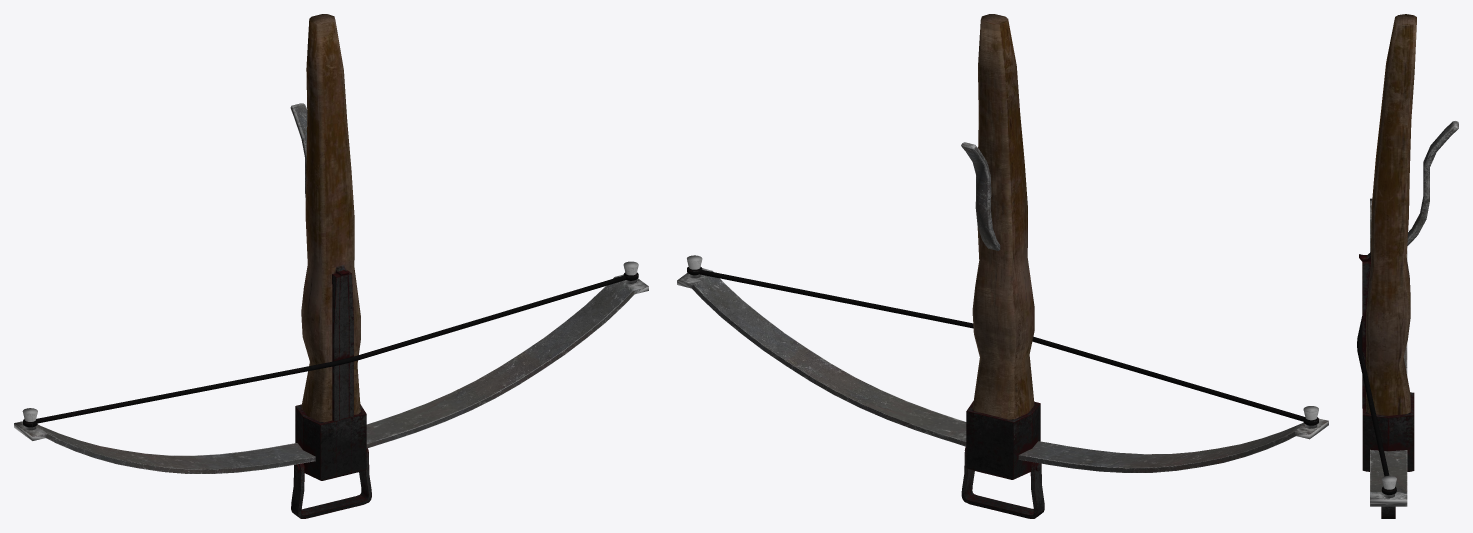
The model's file is w_heavy_crossbow.glb.
3 views of the same model, side by side, from view 1: azimuth 30°, elevation 25°; view 2: azimuth 150°, elevation 25°; view 3: azimuth 270°, elevation 25° (orthographic). The views are drawn at different scales.
Visible parts, largest first — view 1: Object_8, Object_2, Object_5, Object_7, Object_4; view 2: Object_8, Object_2, Object_5, Object_7, Object_4, Object_6; view 3: Object_8, Object_5, Object_2, Object_6, Object_7, Object_3, Object_4.
Part boxes in pixels (left/top/right/bottom): Object_8: left=301, top=14, right=360, bottom=422; Object_2: left=14, top=274, right=648, bottom=473; Object_5: left=295, top=270, right=366, bottom=480; Object_7: left=37, top=275, right=626, bottom=423; Object_4: left=291, top=448, right=371, bottom=518; Object_8: left=972, top=14, right=1034, bottom=419; Object_2: left=677, top=268, right=1328, bottom=472; Object_5: left=966, top=401, right=1040, bottom=479; Object_7: left=699, top=270, right=1304, bottom=421; Object_4: left=961, top=447, right=1044, bottom=518; Object_6: left=961, top=142, right=1000, bottom=250; Object_8: left=1359, top=14, right=1416, bottom=415; Object_5: left=1362, top=261, right=1414, bottom=471; Object_2: left=1370, top=198, right=1407, bottom=506; Object_6: left=1407, top=121, right=1458, bottom=245; Object_7: left=1357, top=316, right=1389, bottom=476; Object_3: left=1381, top=475, right=1396, bottom=504; Object_4: left=1381, top=506, right=1395, bottom=518.
Bounding box in the file's own units: 111 × 83.51 × 15.93.
7 materials, 7 textured.
